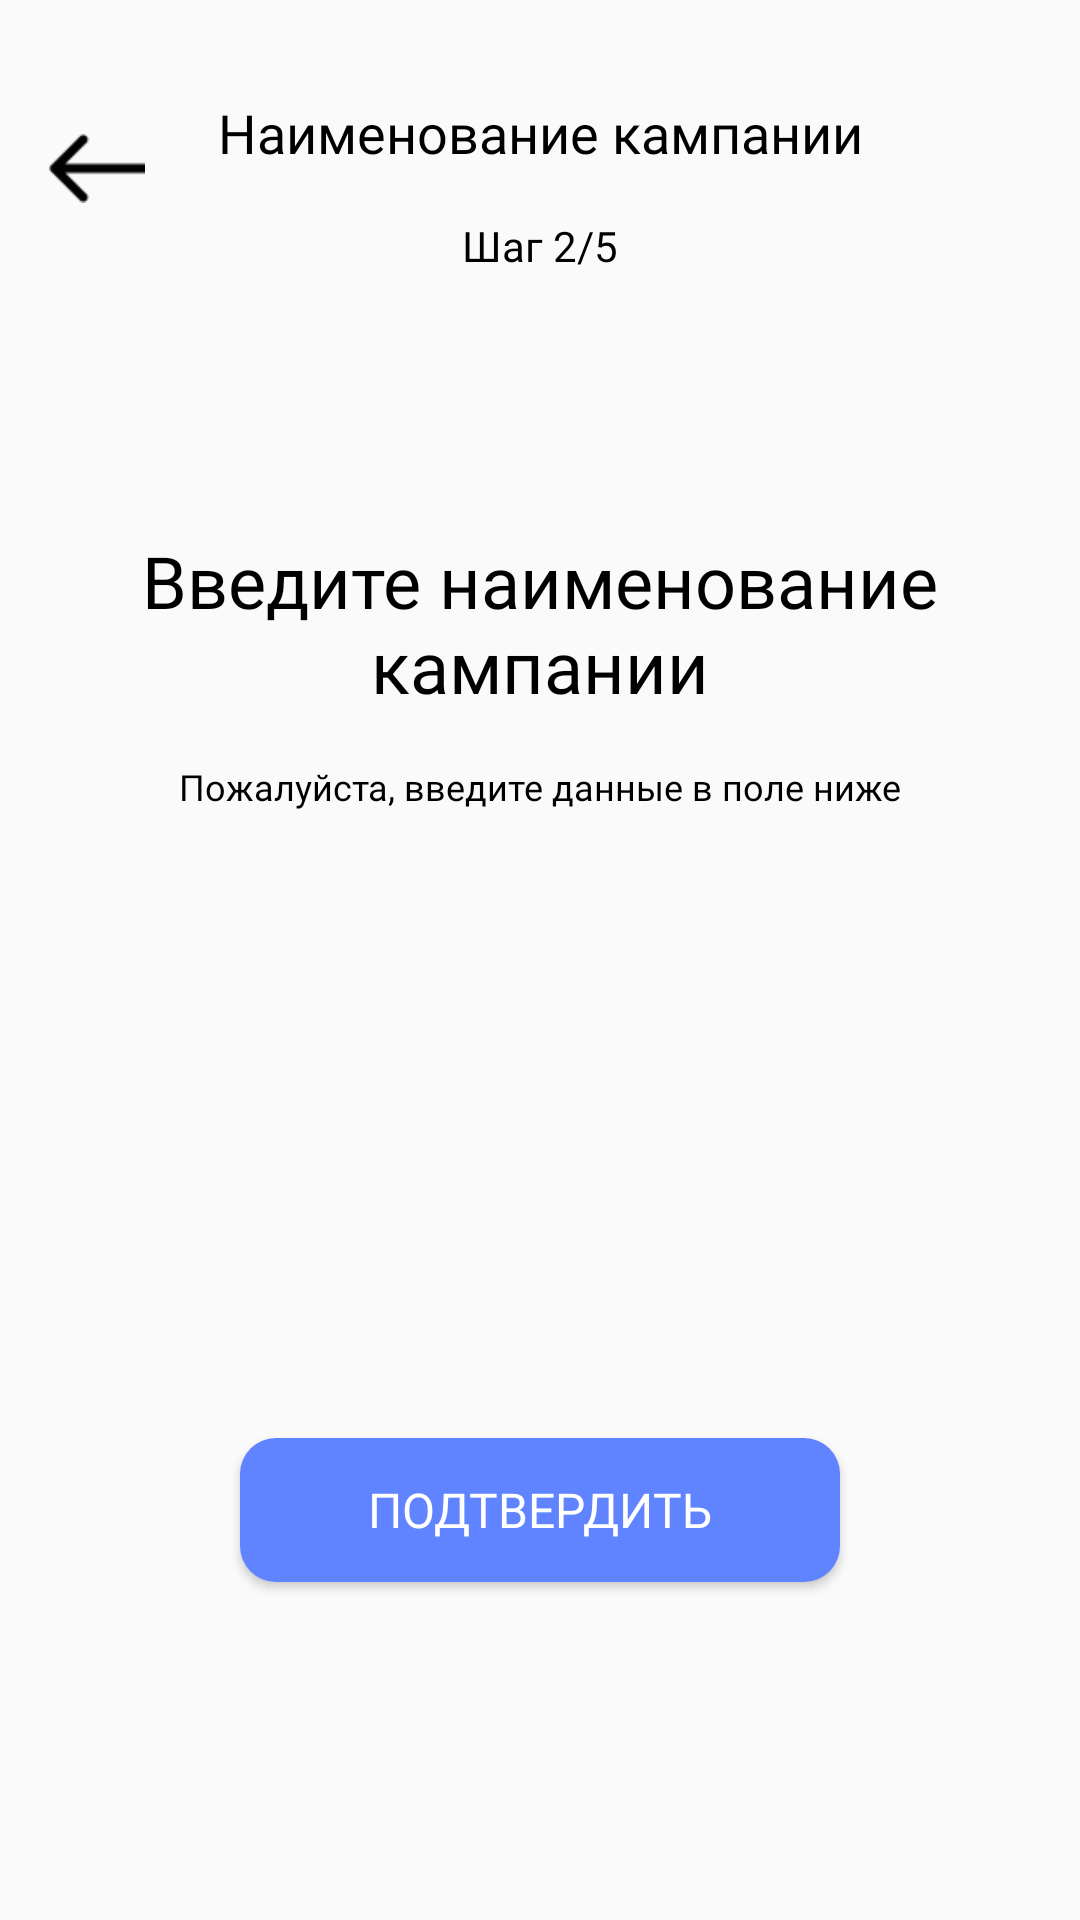

Icon bounding boxes for this 1080 × 1920 phone screenshot, format (x1, y1, x2, y2):
Выйти: (49, 134, 145, 203)
